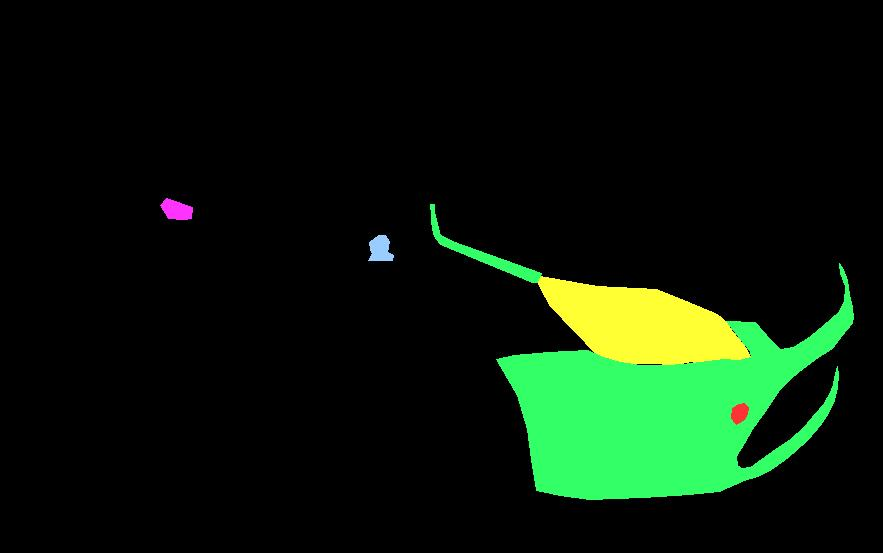Broken part: (496, 263, 853, 499), (430, 204, 541, 282)
Corrosion: (368, 235, 393, 260)
Cracked: (534, 275, 750, 367)
Dent: (661, 365, 684, 430), (160, 198, 192, 219)
Missing part: (731, 403, 748, 424)
Paint chip: (520, 374, 544, 431), (672, 368, 683, 380), (673, 392, 679, 399)
